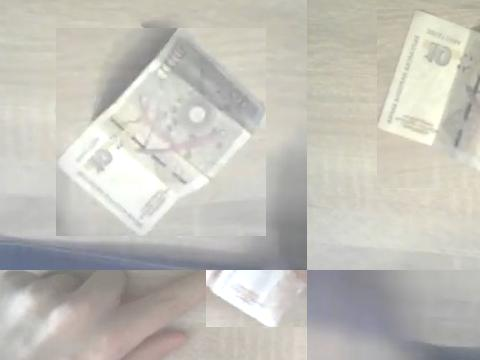10leva: (56, 28, 266, 236), (377, 9, 480, 172), (377, 36, 480, 188)
5leva: (206, 270, 303, 327)
